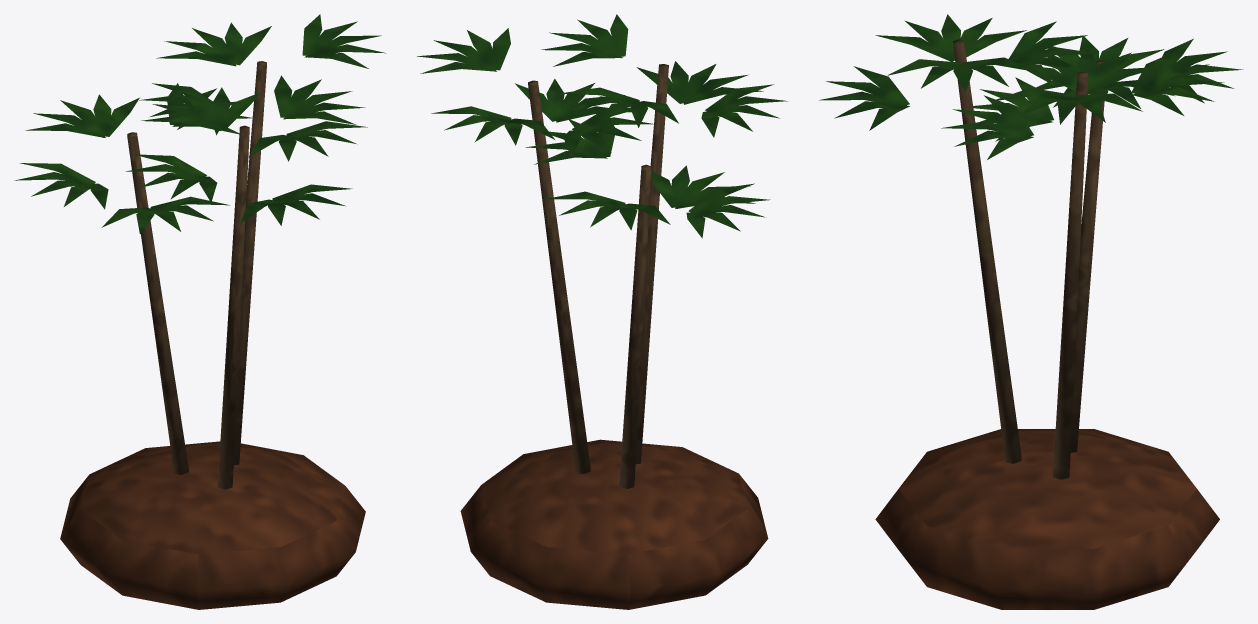
File: cultivation_tapioca.glb
3 renders of one model, left to right at view 1: azimuth 30°, elevation 25°; view 2: azimuth 150°, elevation 25°; view 3: azimuth 270°, elevation 25°, orthographic. The views are drawn at different scales.
Visible parts, largest first — view 1: Tapioca_Mound, Tapioca_Leaves, Tapioca_Stems; view 2: Tapioca_Mound, Tapioca_Leaves, Tapioca_Stems; view 3: Tapioca_Mound, Tapioca_Leaves, Tapioca_Stems.
Boxes of the visible parts, x1=… form: Tapioca_Mound: x1=60, y1=441, x2=365, y2=609; Tapioca_Leaves: x1=14, y1=14, x2=386, y2=233; Tapioca_Stems: x1=127, y1=61, x2=266, y2=489; Tapioca_Mound: x1=460, y1=439, x2=768, y2=609; Tapioca_Leaves: x1=417, y1=14, x2=787, y2=238; Tapioca_Stems: x1=528, y1=64, x2=668, y2=488; Tapioca_Mound: x1=875, y1=429, x2=1219, y2=609; Tapioca_Leaves: x1=819, y1=14, x2=1243, y2=159; Tapioca_Stems: x1=953, y1=39, x2=1105, y2=479.
Size of the model in its own units: 1.16 by 1.63 by 1.14.
Materials: 3 (3 with a texture image).
